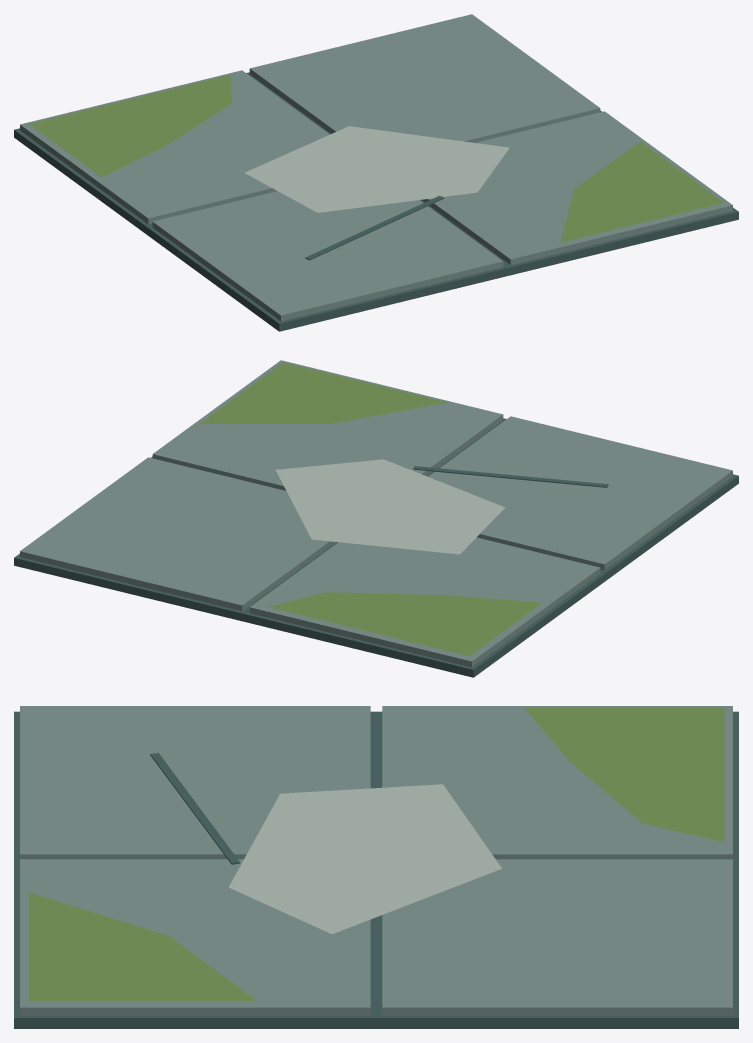
The model's file is sanctuary_floor_variant.glb.
The picture shows the model from 3 angles, top to bottom: view 1: azimuth 30°, elevation 25°; view 2: azimuth 150°, elevation 25°; view 3: azimuth 270°, elevation 25°; orthographic projection. The views are drawn at different scales.
Parts seen in each view (by area): view 1: sanctuary_floor_variant; view 2: sanctuary_floor_variant; view 3: sanctuary_floor_variant.
Boxes of the visible parts, x1,y1,x2,y2 form: sanctuary_floor_variant: (14,14,738,331); sanctuary_floor_variant: (14,360,738,677); sanctuary_floor_variant: (14,706,738,1028).
Size of the model in its own units: 1.96 by 0.066 by 1.96.
